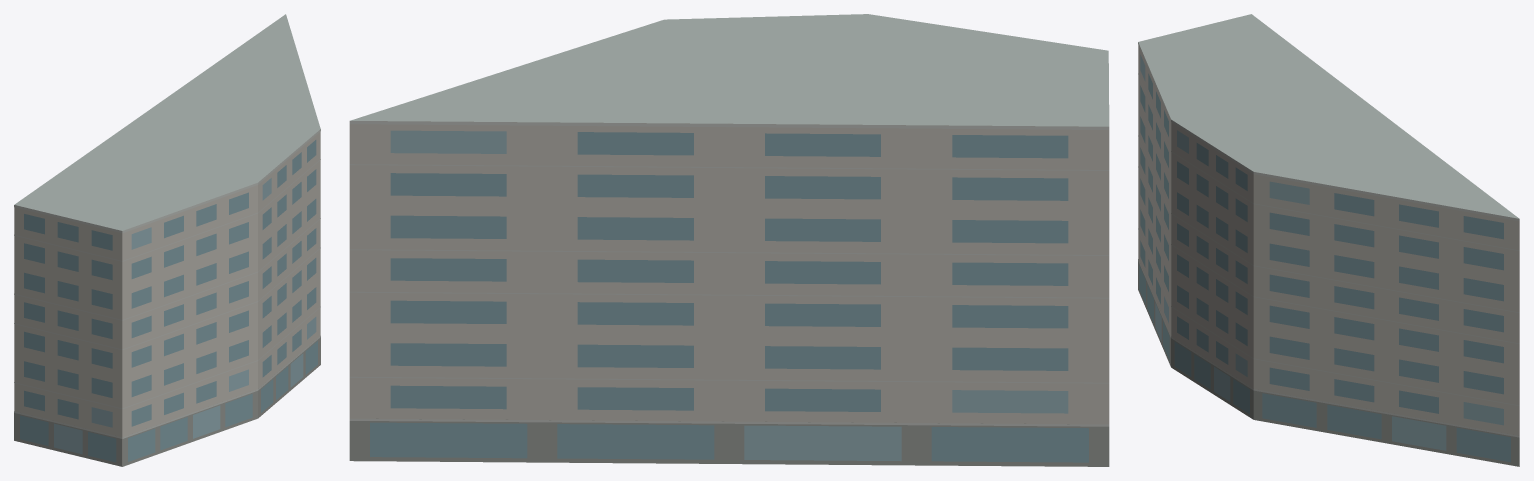
The model's file is residential-f21807f0-cd3c-47b0-8e95-0cc15ccd7891.glb.
3 renders of one model, left to right at view 1: azimuth 30°, elevation 25°; view 2: azimuth 150°, elevation 25°; view 3: azimuth 270°, elevation 25°, orthographic. The views are drawn at different scales.
Visible parts, largest first — view 1: residential-f21807f0-cd3c-47b0-8e95-0cc15ccd7891.tmp; view 2: residential-f21807f0-cd3c-47b0-8e95-0cc15ccd7891.tmp; view 3: residential-f21807f0-cd3c-47b0-8e95-0cc15ccd7891.tmp.
Boxes of the visible parts, left/top/right/bottom form: residential-f21807f0-cd3c-47b0-8e95-0cc15ccd7891.tmp: left=14, top=14, right=320, bottom=466; residential-f21807f0-cd3c-47b0-8e95-0cc15ccd7891.tmp: left=349, top=14, right=1109, bottom=466; residential-f21807f0-cd3c-47b0-8e95-0cc15ccd7891.tmp: left=1138, top=14, right=1519, bottom=466.
Size of the model in its own units: 43.24 by 24.4 by 34.05.
